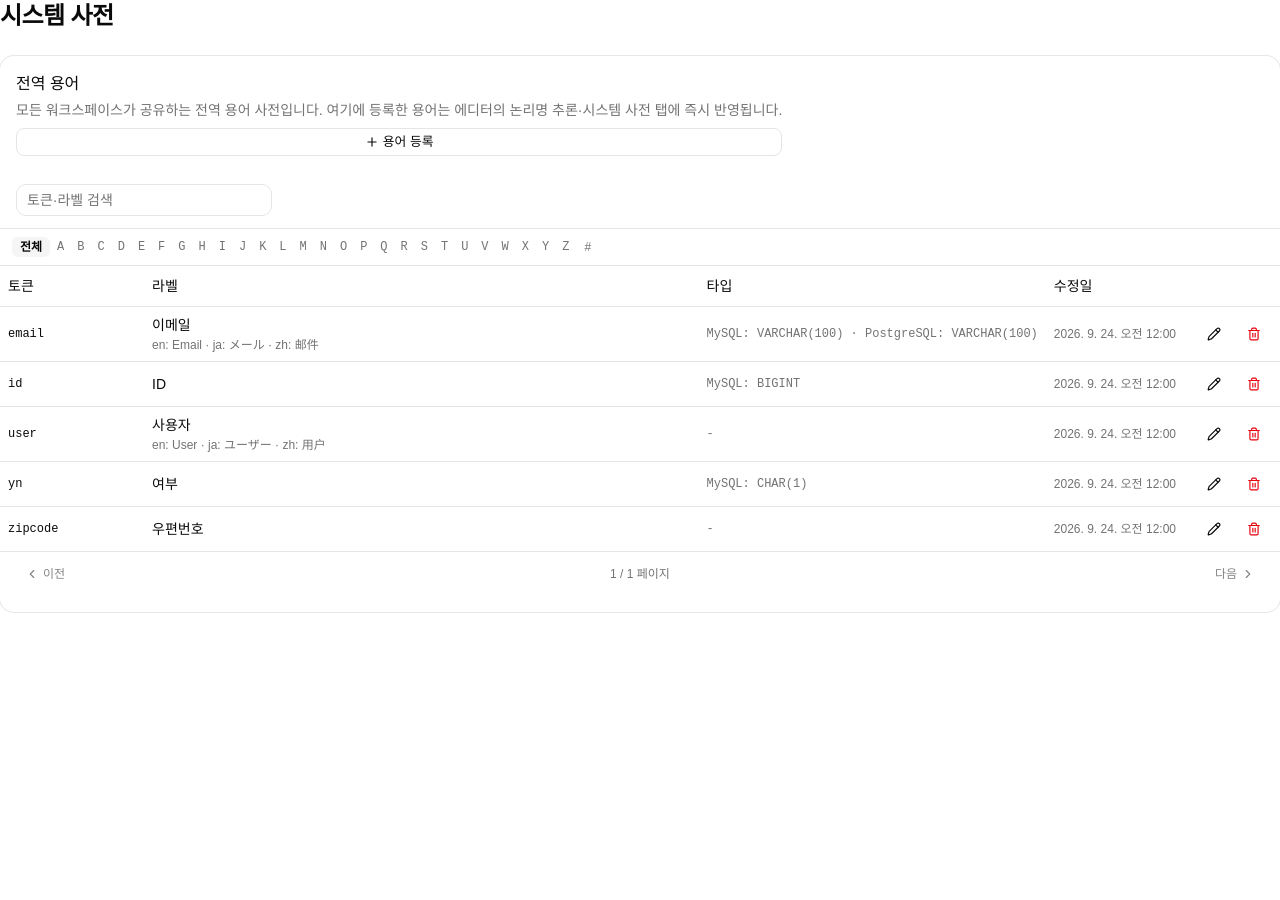
Test case: 시스템 사전 관리 화면 › 삭제 — 확인 다이얼로그를 거쳐 DELETE한다(전 워크스페이스 즉시 반영 안내)
What coordinates should you click on to do the following:
click the button named "삭제 — email"
I would click on:
 (1254, 334)
Its box is 1236,320 -> 1272,348.
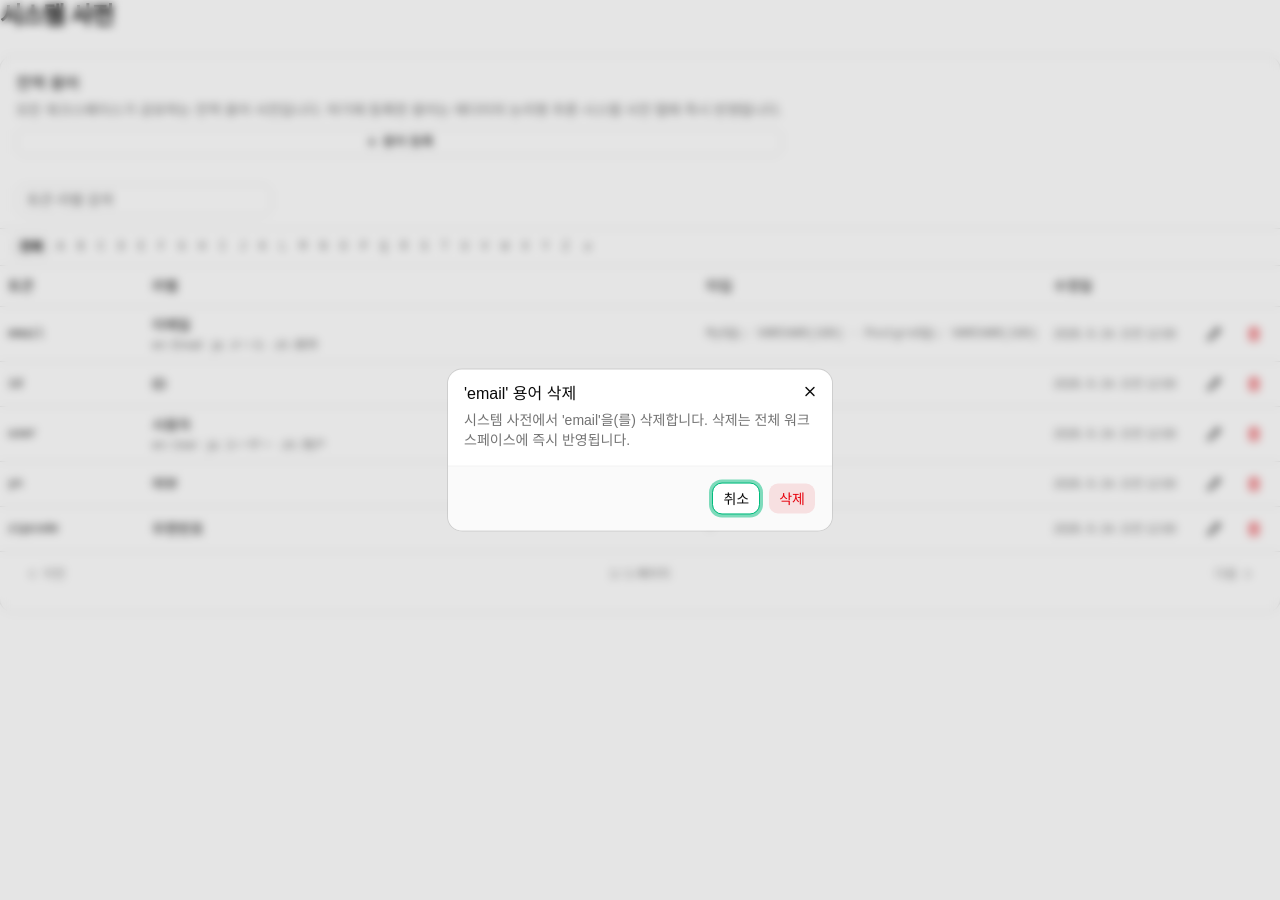
Expected: the heading "'email' 용어 삭제" is shown, 464,384 -> 576,402
Expected: the text "시스템 사전에서 'email'을(를) 삭제합니다. 삭제는 전체 워크스페이스에 즉시 반영됩니다." is shown, 464,410 -> 816,450
What coordinates should you click on to do the following:
click the button "삭제"
I would click on:
 (792, 498)
Its box is 768,482 -> 816,514.
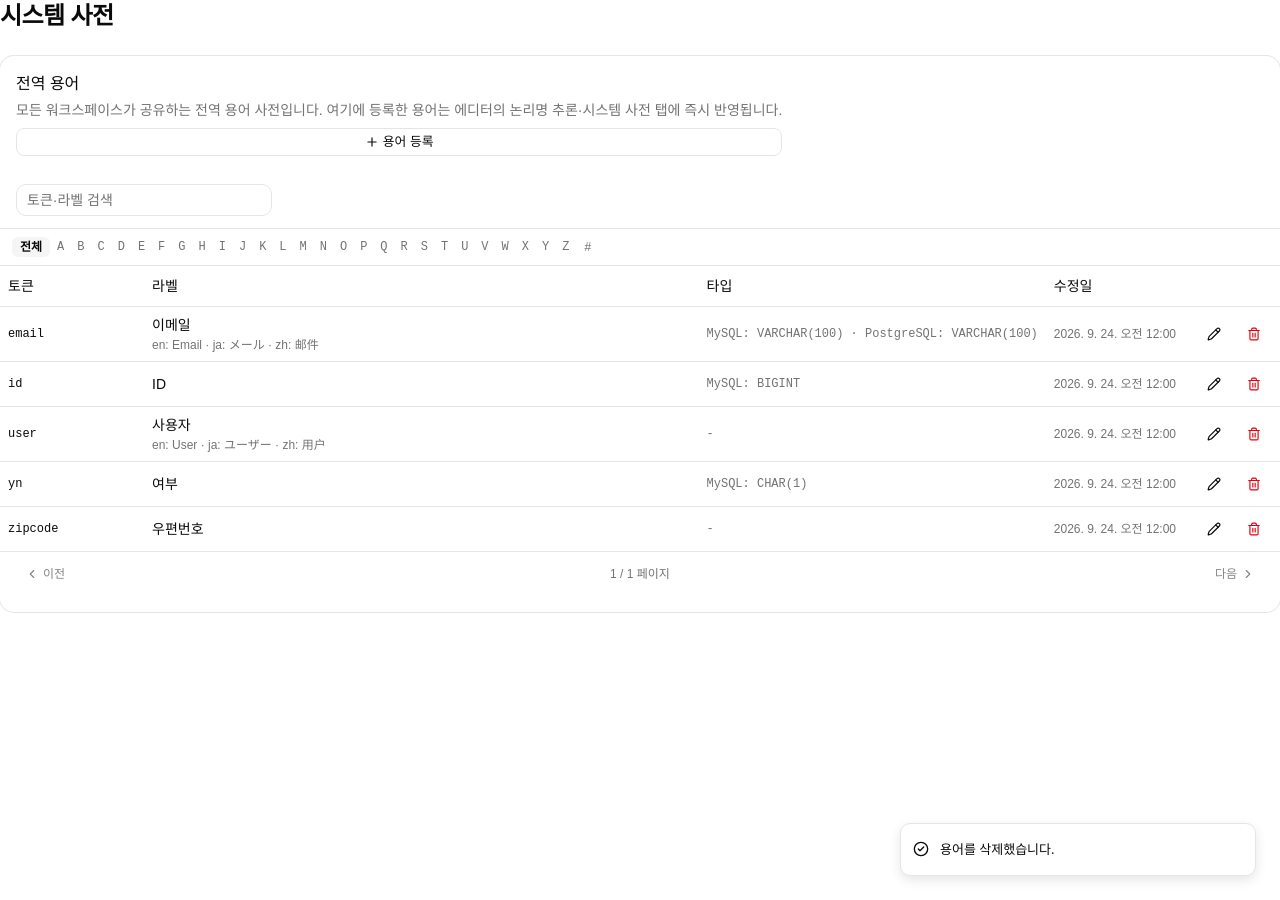
Expected: the text "용어를 삭제했습니다." is shown, 940,840 -> 1054,859
